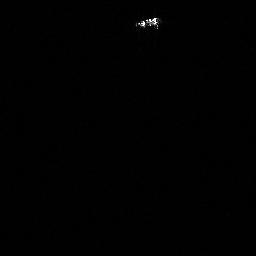ship: (133, 15, 164, 31)
